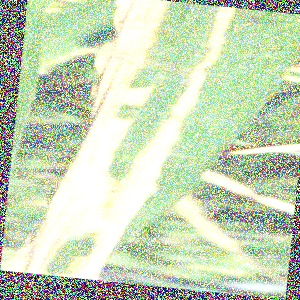Leaf_Blast: (88, 0, 255, 245)
